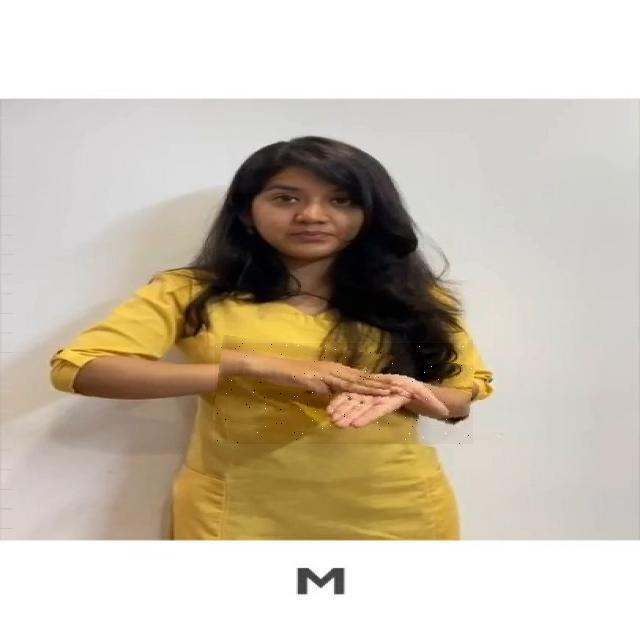M: (215, 343, 473, 444)
